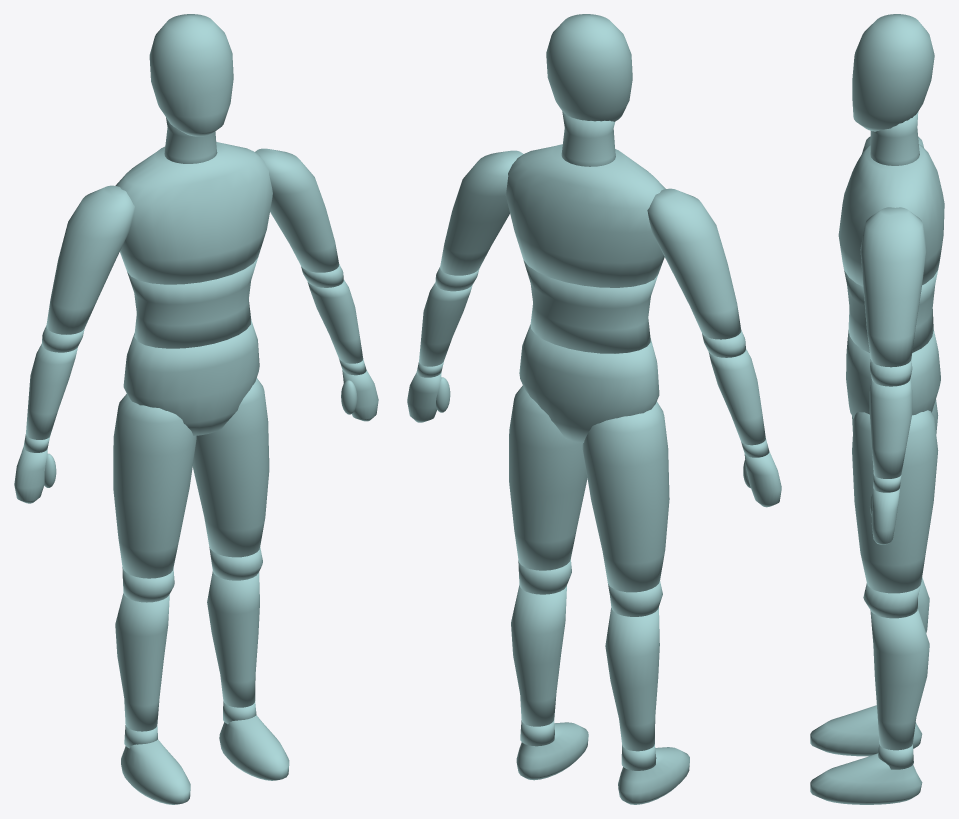
File: human-body.glb
3 renders of one model, left to right at view 1: azimuth 30°, elevation 25°; view 2: azimuth 150°, elevation 25°; view 3: azimuth 270°, elevation 25°, orthographic. The views are drawn at different scales.
Parts seen in each view (by area): view 1: chest, right_thigh, left_thigh, pelvis, head, right_upper_arm, abdomen, right_shin, left_upper_arm, left_shin, left_foot, right_foot (+8 smaller); view 2: chest, right_thigh, left_thigh, pelvis, right_upper_arm, abdomen, head, right_shin, left_shin, left_upper_arm, right_forearm, left_forearm (+11 smaller); view 3: left_thigh, left_upper_arm, head, chest, left_shin, left_foot, left_forearm, pelvis, right_foot, abdomen, neck, left_knee (+5 smaller).
Boxes of the visible parts, box(x1,y1,x2,y2) form: chest: box(115, 142, 272, 284); right_thigh: box(113, 394, 196, 578); left_thigh: box(192, 378, 269, 557); pelvis: box(123, 320, 259, 435); head: box(149, 14, 233, 136); right_upper_arm: box(46, 185, 134, 334); abdomen: box(127, 258, 257, 348); right_shin: box(115, 593, 169, 731); left_upper_arm: box(255, 148, 339, 272); left_shin: box(207, 571, 259, 707); left_foot: box(219, 715, 289, 780); right_foot: box(121, 739, 190, 804); chest: box(505, 144, 665, 287); right_thigh: box(582, 401, 669, 592); left_thigh: box(509, 385, 587, 570); pelvis: box(519, 324, 659, 442); right_upper_arm: box(647, 188, 741, 339); abdomen: box(523, 260, 657, 353); head: box(546, 14, 632, 121); right_shin: box(605, 607, 659, 751); left_shin: box(511, 585, 566, 726); left_upper_arm: box(440, 150, 523, 275); right_forearm: box(708, 349, 765, 445); left_forearm: box(419, 283, 472, 366); left_thigh: box(852, 410, 938, 593); left_upper_arm: box(860, 207, 926, 367); head: box(852, 14, 934, 131); chest: box(838, 144, 944, 286); left_shin: box(870, 609, 929, 750); left_foot: box(810, 753, 922, 804); left_forearm: box(869, 379, 912, 478); pelvis: box(846, 330, 940, 418); right_foot: box(810, 705, 922, 756); abdomen: box(844, 270, 937, 352); neck: box(870, 112, 919, 165); left_knee: box(863, 583, 920, 618).
Bounding box in the file's own units: 0.852 × 1.68 × 0.271.
